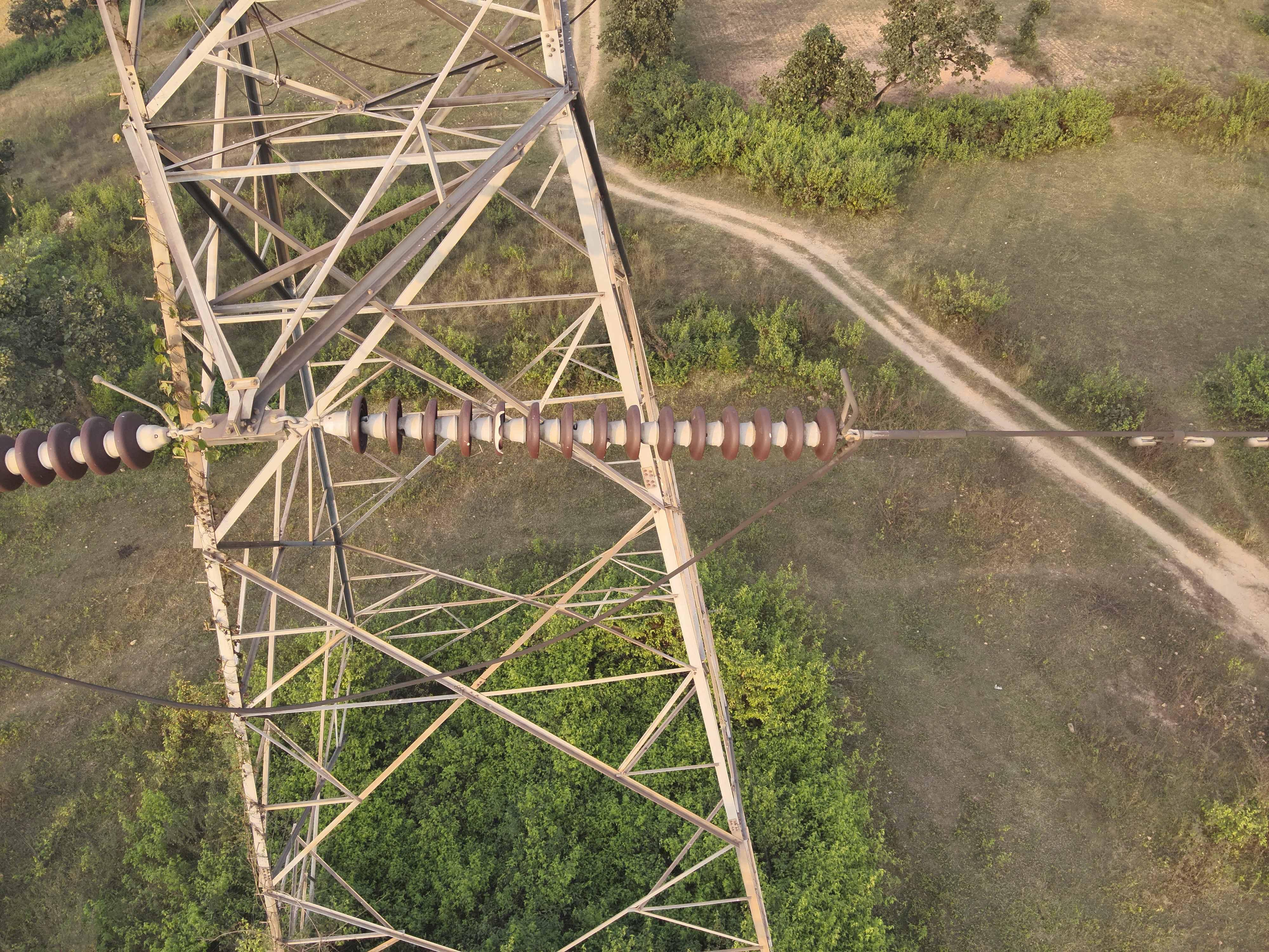broken_insulator: (488, 394, 512, 461)
